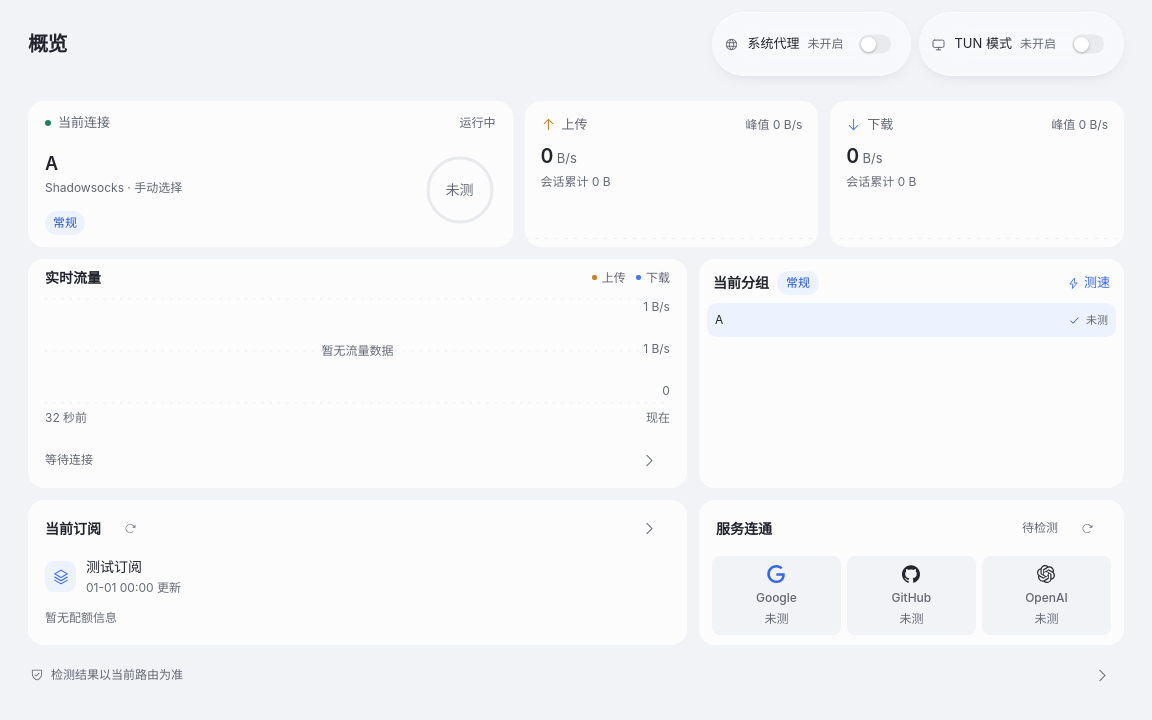
it: 当前节点未测时可单独测速，失败有状态，结果共享到节点列表
Click the button "未测".
click(460, 190)  # box [424, 154, 496, 226]
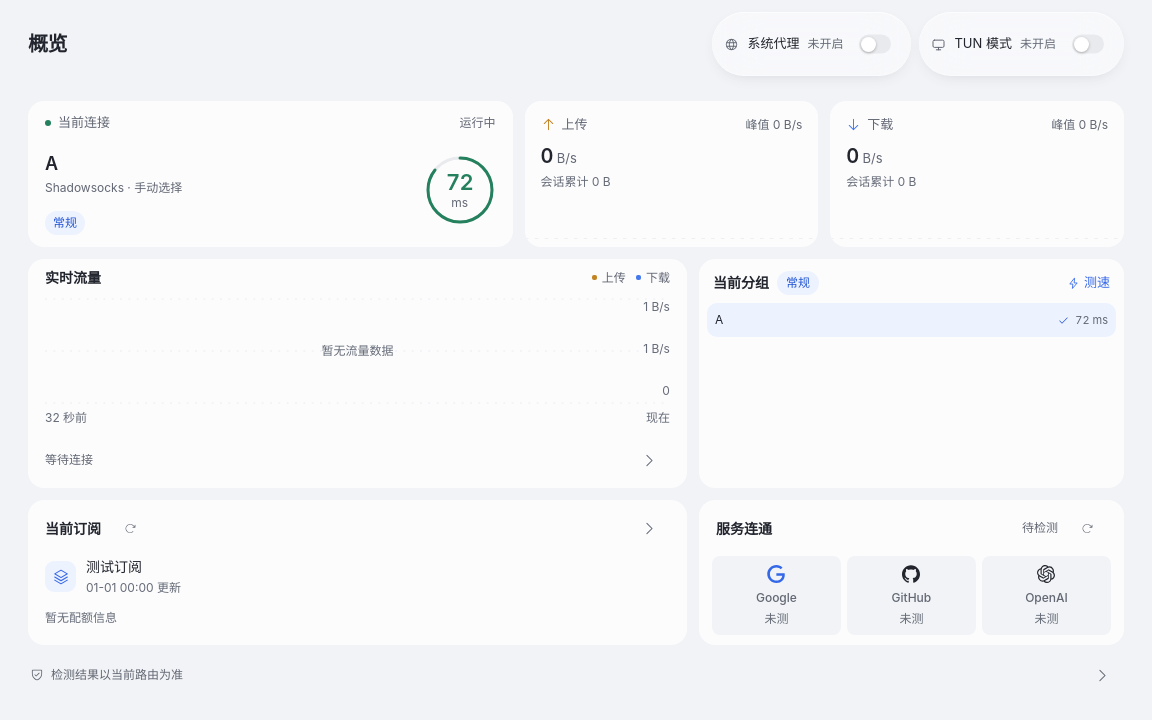
Result: the button "72 ms" is shown
Click the button "72 ms".
click(460, 190)  # box [424, 154, 496, 226]
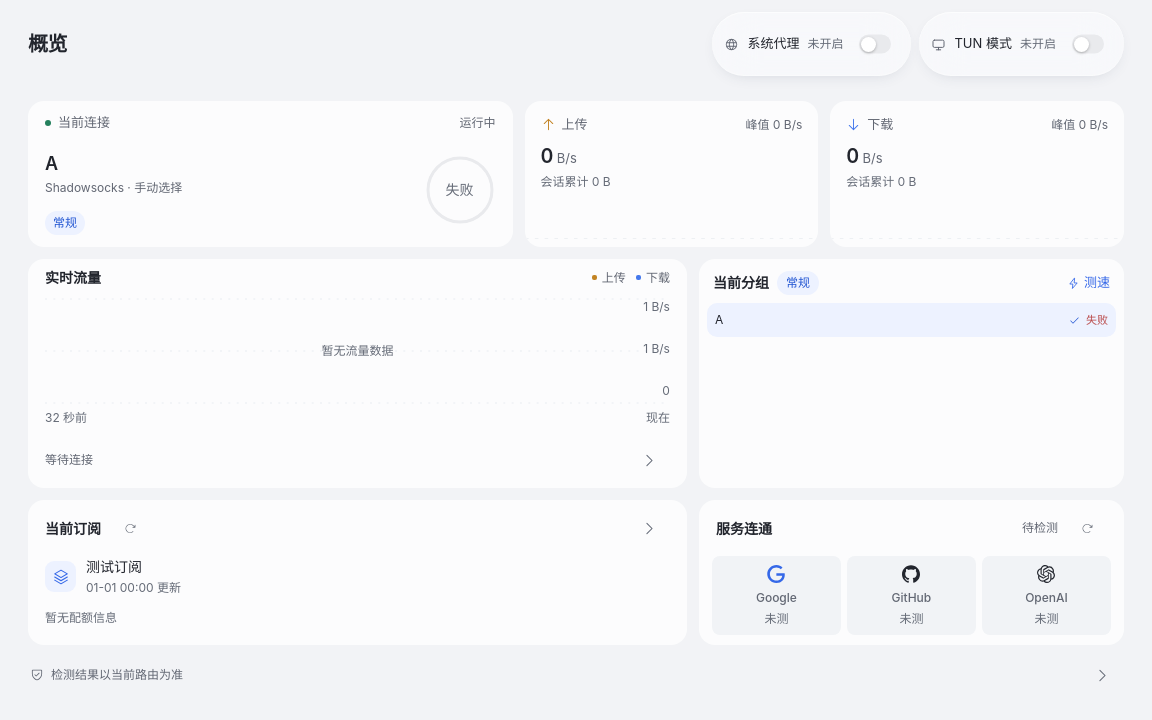
Result: the button "失败" is shown at [424, 154, 496, 226]
